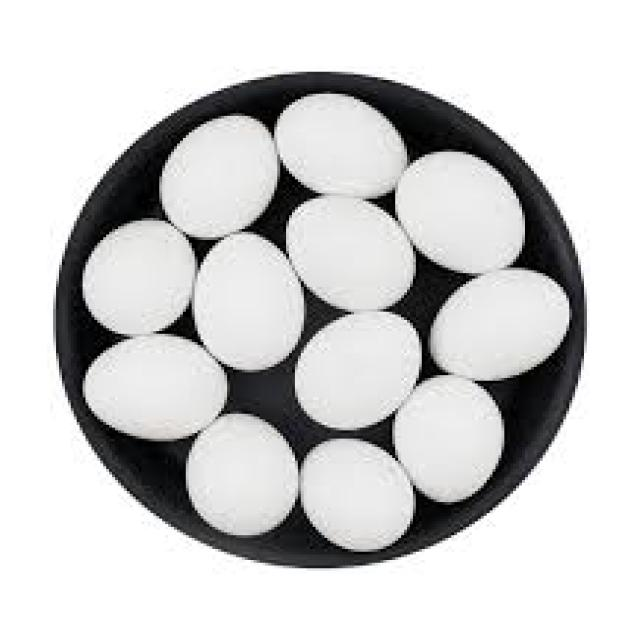White Egg: (198, 229, 316, 386), (388, 146, 526, 269), (288, 198, 423, 309), (434, 270, 570, 380), (292, 313, 429, 420), (386, 374, 497, 503), (82, 222, 192, 325)
